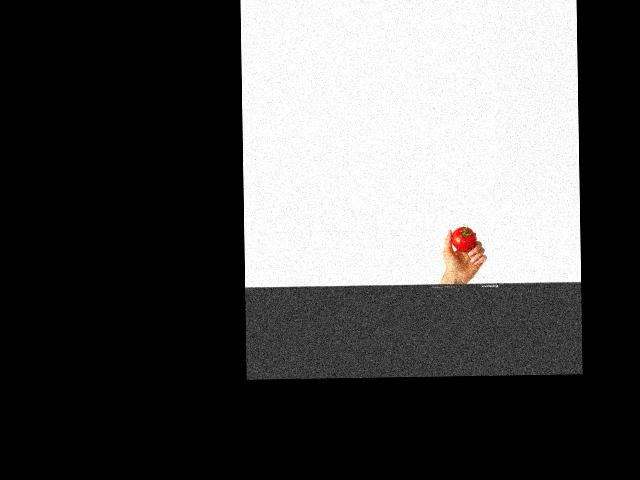tomato: (451, 226, 475, 252)
